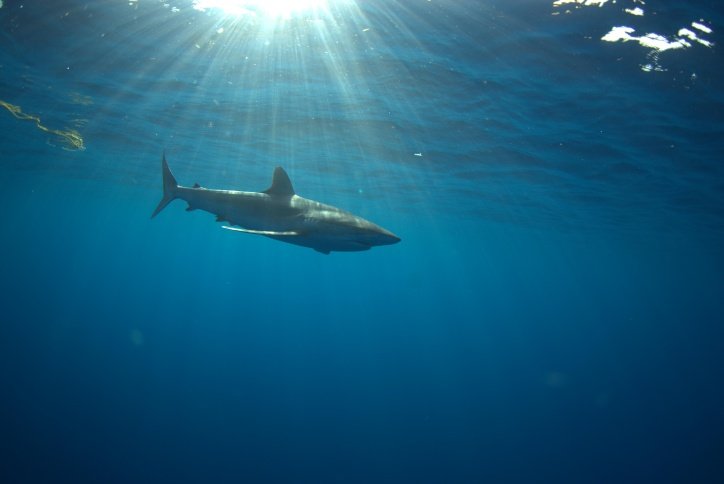Sedoso: (130, 141, 419, 265)
